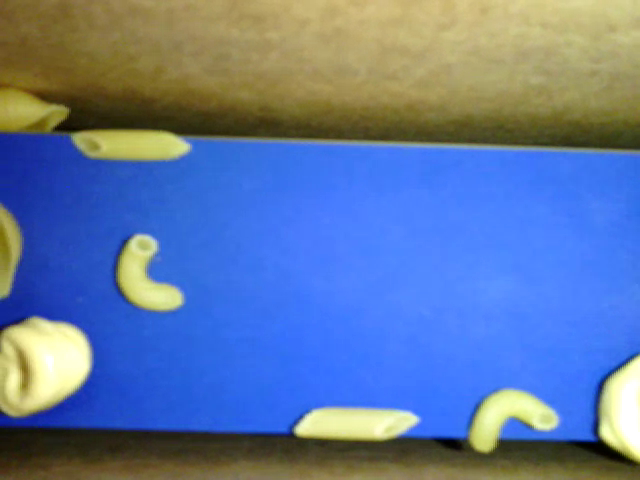elbow: (467, 386, 561, 455), (113, 233, 184, 314)
penne: (293, 406, 420, 441), (72, 128, 193, 162)
shell: (1, 85, 75, 132), (1, 202, 22, 297)
tortellini: (1, 313, 96, 419), (593, 347, 639, 466)
